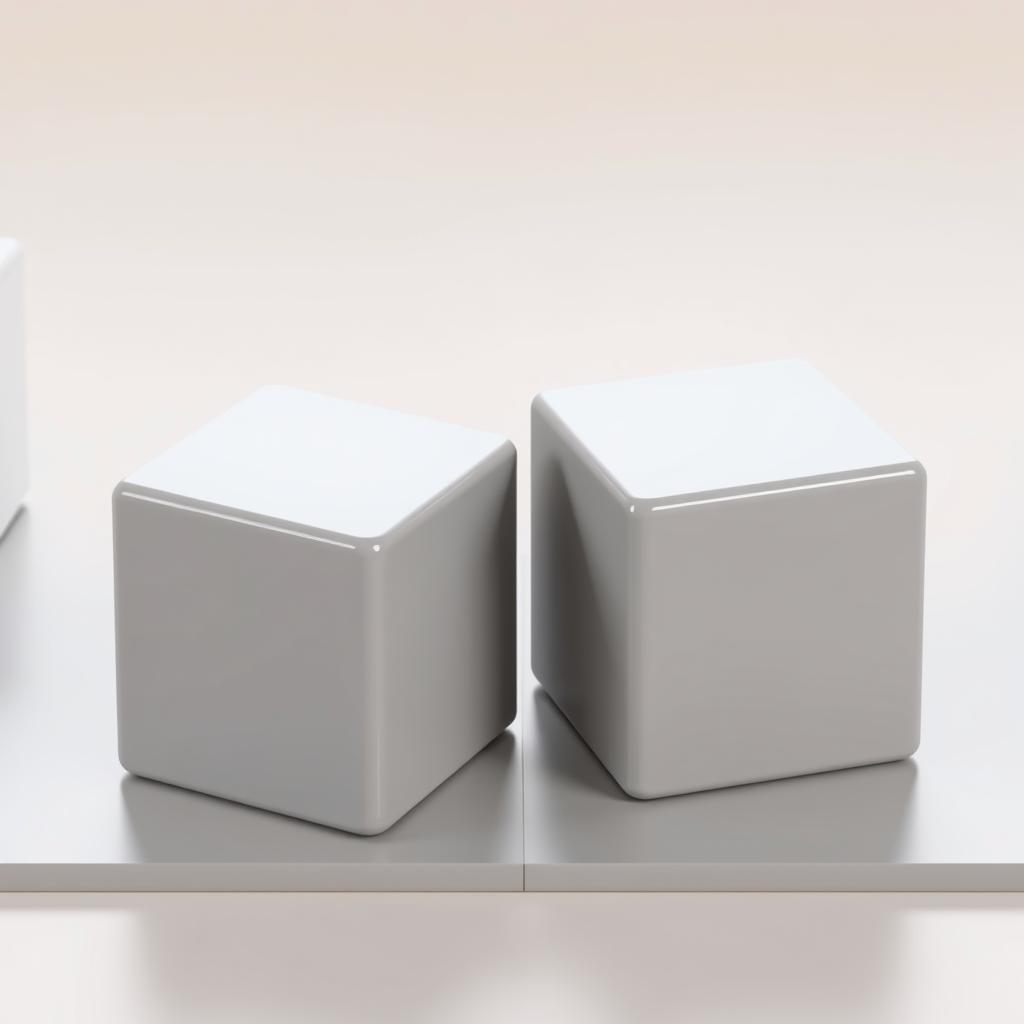cube: (110, 382, 518, 836), (528, 354, 927, 801)
